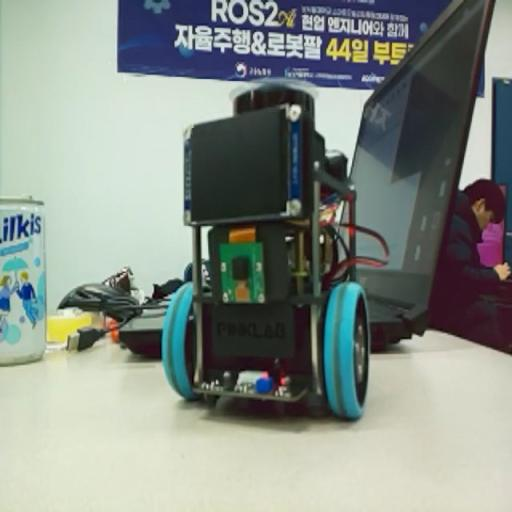pinky_63: (158, 68, 392, 422)
